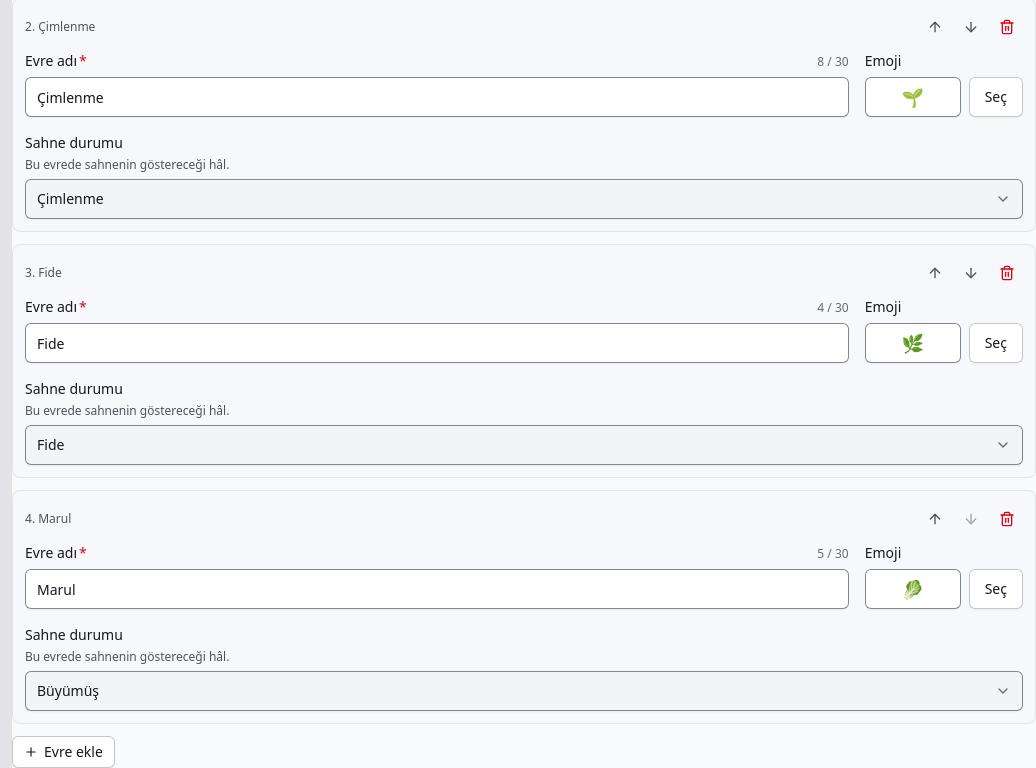
Test: BlockFieldsEditor › stage-slider: adds items with fresh ids up to the schema maximum (6)
The width and height of the screenshot is (1036, 768).
(page scrolled)
# oxlint-disable-next-line no-await-in-loop -- each removal re-renders the list
Click the button "Evre ekle" at (63, 752), box [12,736,115,767]
(page scrolled)
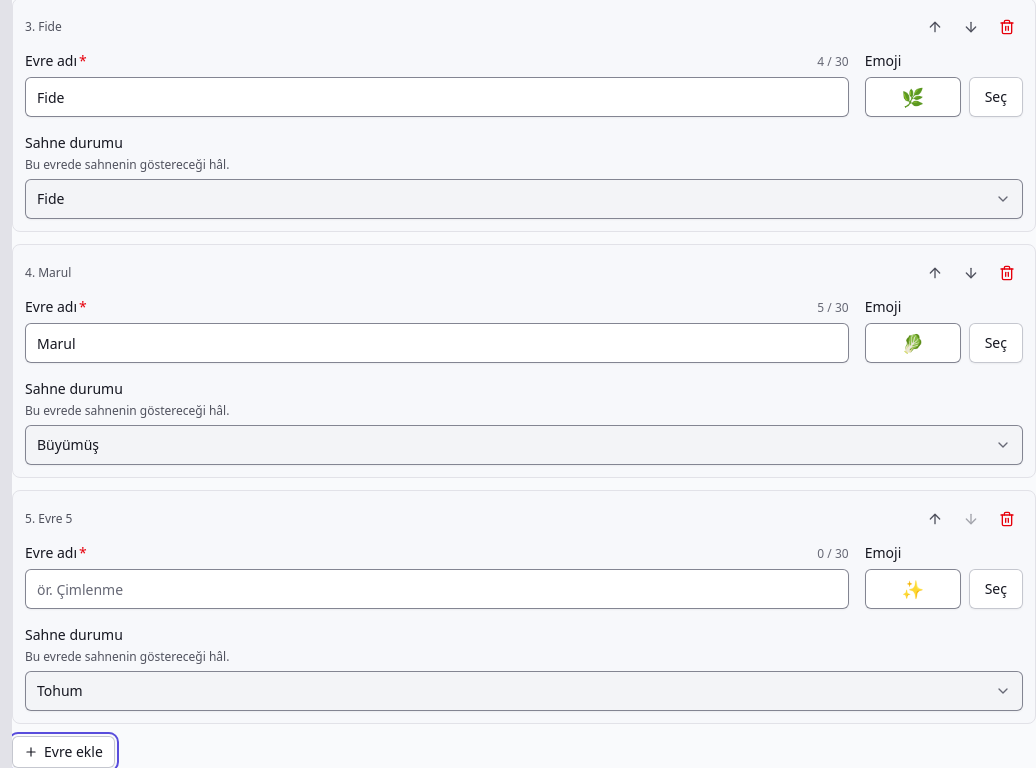
Click the button "Evre ekle" at (63, 752), box [12,736,115,767]
(page scrolled)
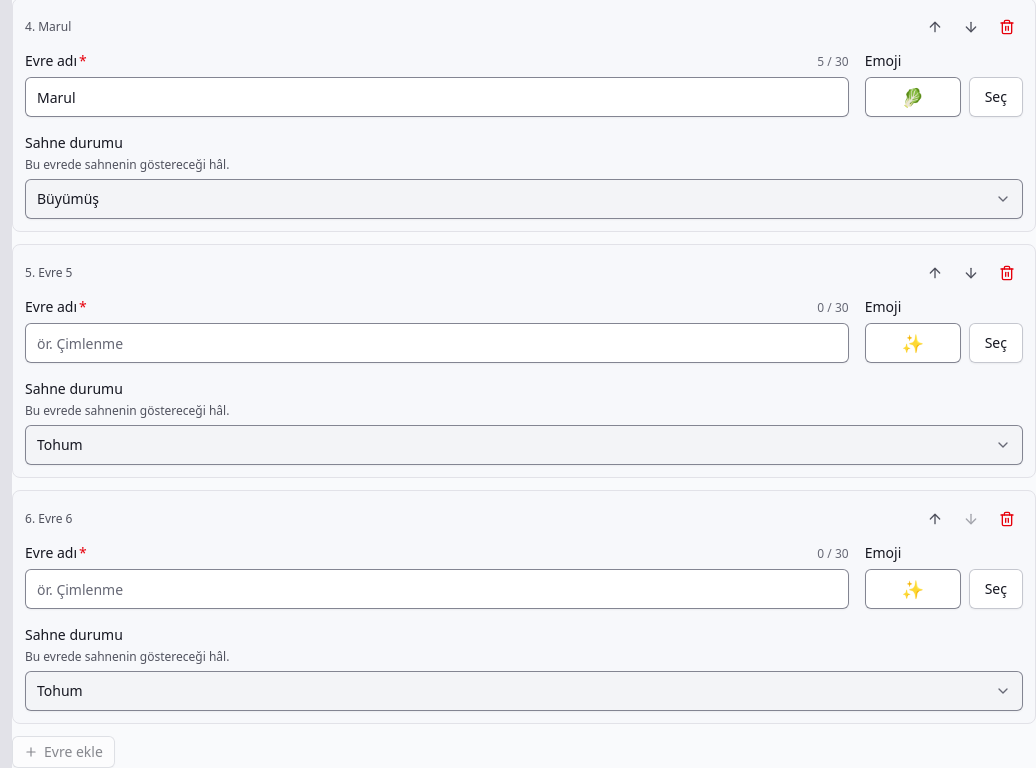
Now the button "Evre ekle" is disabled, box [12,736,115,767]
